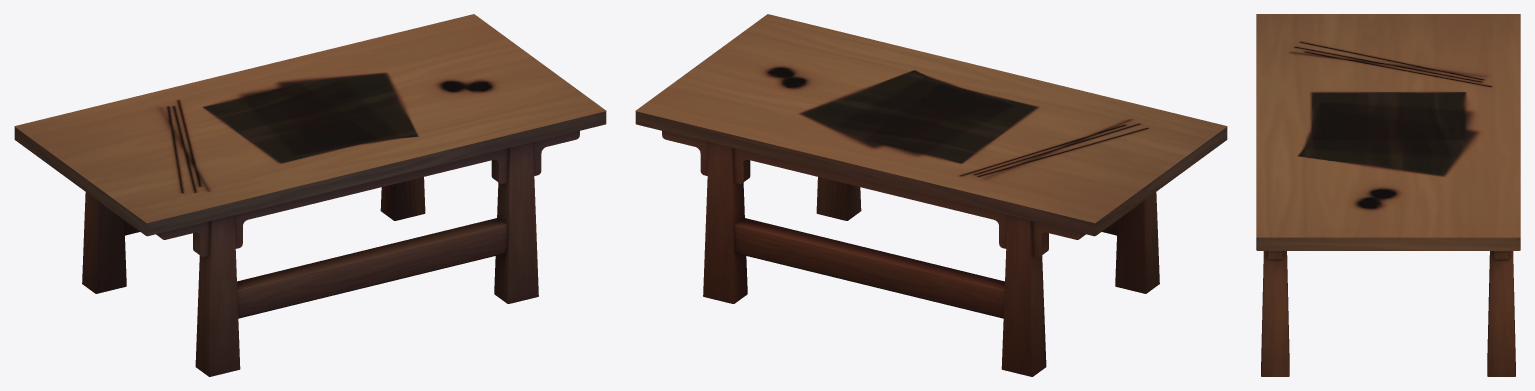
The model's file is Table.glb.
The picture shows the model from 3 angles, left to right: view 1: azimuth 30°, elevation 25°; view 2: azimuth 150°, elevation 25°; view 3: azimuth 270°, elevation 25°; orthographic projection.
Visible parts, largest first — view 1: Table.001; view 2: Table.001; view 3: Table.001.
Part boxes in pixels (<box>): Table.001: <box>14,14,606,376</box>; Table.001: <box>635,14,1227,376</box>; Table.001: <box>1256,14,1520,376</box>.
Size of the model in its own units: 2.2 by 0.7844 by 1.1.
Materials: 1 (1 with a texture image).
